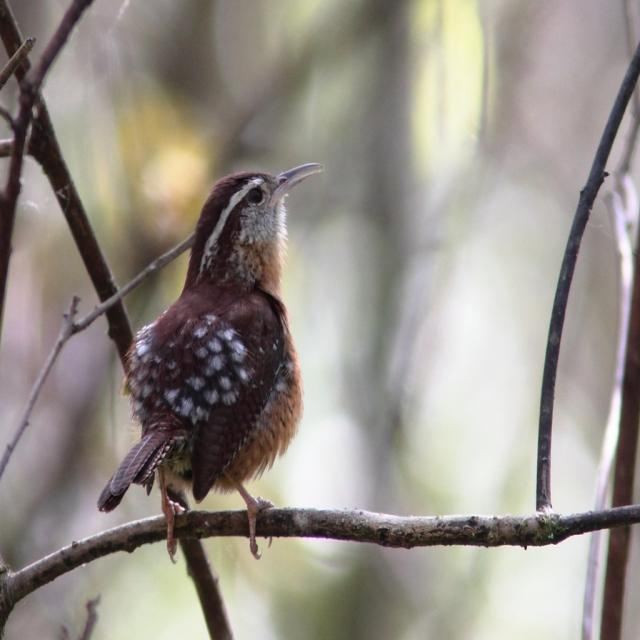bird: (98, 158, 328, 562)
